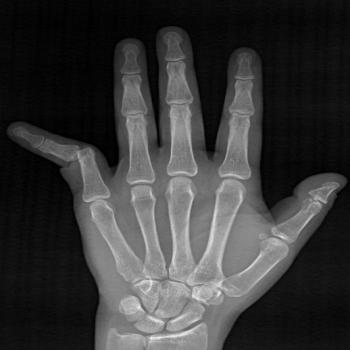Fracture: (66, 136, 95, 166)
